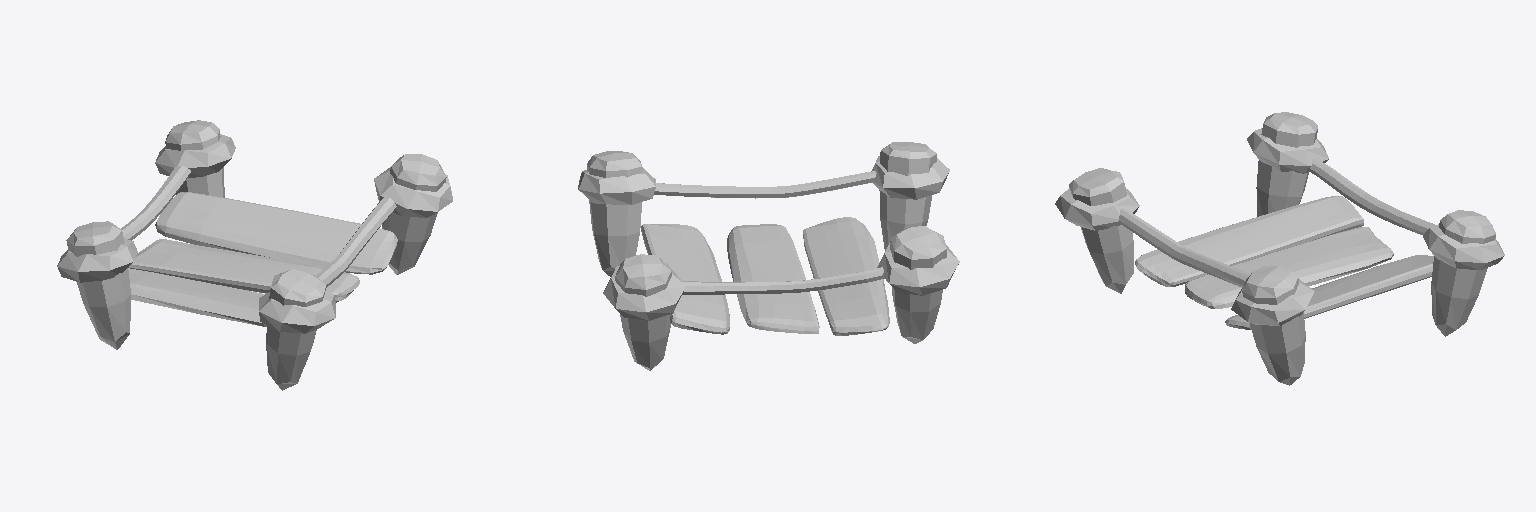
Rendered from smaller_tropical_bridge.obj.
3 views of the same model, side by side, from view 1: azimuth 30°, elevation 25°; view 2: azimuth 150°, elevation 25°; view 3: azimuth 270°, elevation 25° (orthographic).
Parts seen in each view (by area): view 1: bridge.007_Cube.019, bridge.009_Cube.021, bridge.008_Cube.020; view 2: bridge.007_Cube.019, bridge.009_Cube.021, bridge.008_Cube.020; view 3: bridge.007_Cube.019, bridge.009_Cube.021, bridge.008_Cube.020.
Boxes of the visible parts, x1,y1,x2,y2 form: bridge.007_Cube.019: [128, 192, 397, 326]; bridge.009_Cube.021: [66, 120, 446, 390]; bridge.008_Cube.020: [57, 134, 452, 333]; bridge.007_Cube.019: [641, 217, 889, 335]; bridge.009_Cube.021: [587, 142, 946, 370]; bridge.008_Cube.020: [578, 156, 959, 320]; bridge.007_Cube.019: [1135, 196, 1433, 329]; bridge.009_Cube.021: [1069, 112, 1495, 385]; bridge.008_Cube.020: [1055, 128, 1504, 325].
Bounding box in the file's own units: 18.42 × 5.92 × 18.88.